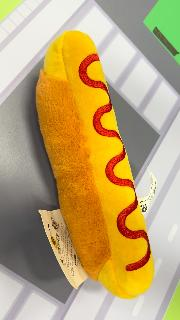hotdog: (35, 30, 156, 300)
